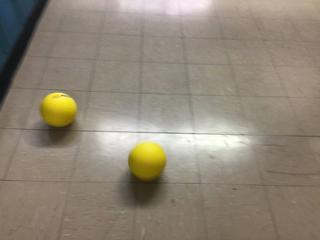power_cell: (37, 88, 83, 130), (127, 139, 168, 184)
